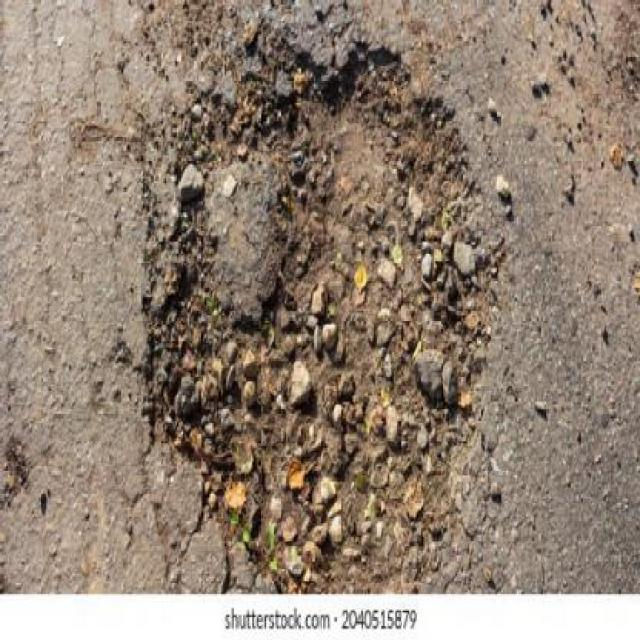Buraco: (125, 13, 517, 594)
